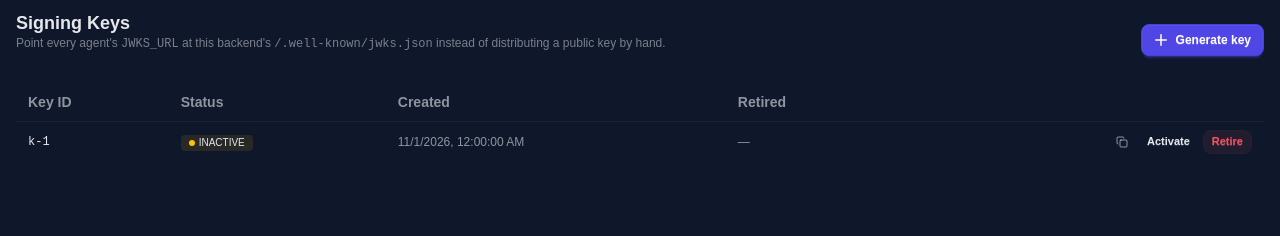
Test case: a failed action shows its message and keeps the list
Expected: the cell "k-1" is shown, x1=16 y1=122 x2=169 y2=162
Click the button "Activate".
click(1168, 142)  # box x1=1138 y1=130 x2=1199 y2=154
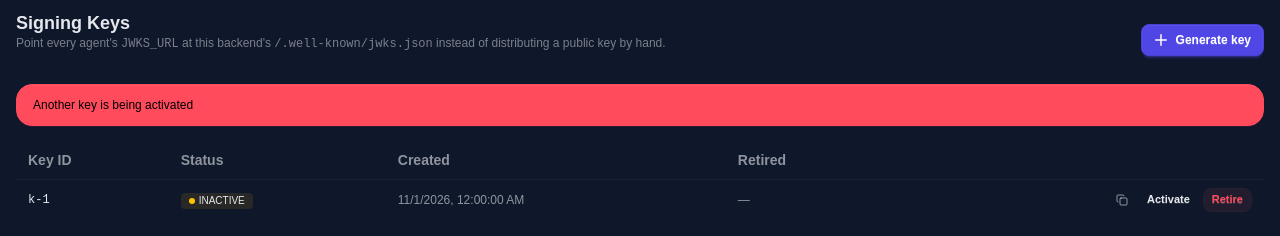
Expected: the cell "k-1" is shown, x1=16 y1=180 x2=169 y2=220
Result: the message reads "Another key is being activated" at x1=33 y1=98 x2=193 y2=112
